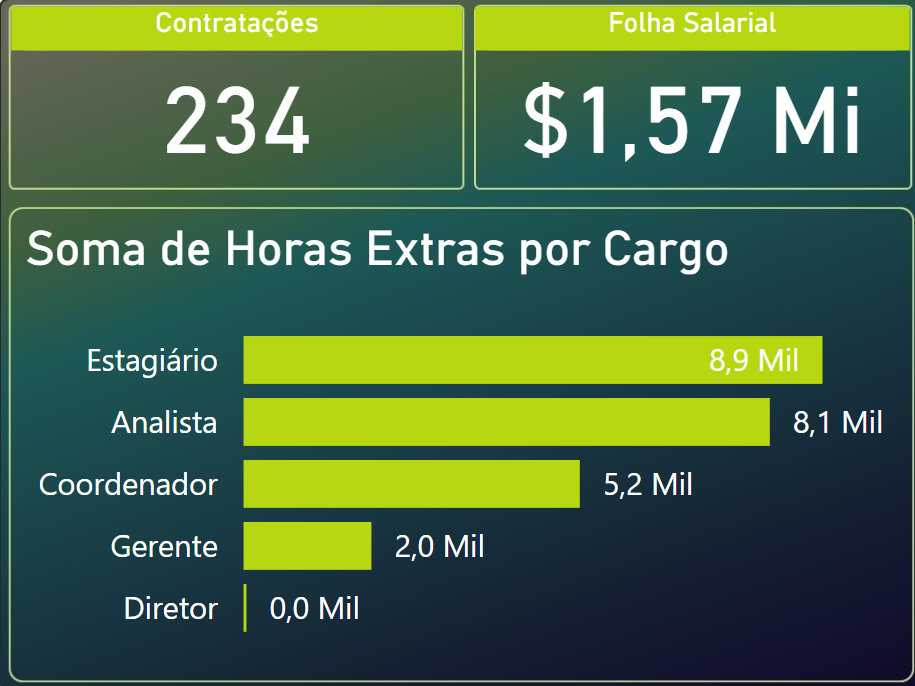

Layout of this report page (visuals, bound fields, positions):
{"tool":"powerbi","page":{"name":"Tooltip RH","canvas":[320,240],"ordinal":1},"visuals":[{"type":"card","title":"Contratações","fields":{"Values":["Base Funcionarios.Contratações"]},"box":[3.8,2.9,157.1,63.8],"z":0},{"type":"card","title":"Folha Salarial","fields":{"Values":["Sum(Base Funcionarios.Salario)"]},"box":[165.4,2.9,151.2,63.8],"z":1000},{"type":"barChart","fields":{"Y":["Sum(Base Funcionarios.Horas Extras)"],"Category":["Base Funcionarios.Cargo"]},"box":[3.8,77.1,312.9,157.9],"z":2000}]}

Visuals, with their boxes in screenshot pixels (x1, y1, x2, y2), scaled from the page's 320x240 canvas onto the 915x686 screenshot:
"Contratações" card: select_region(11, 8, 460, 191)
"Folha Salarial" card: select_region(473, 8, 905, 191)
barChart - Sum(Base Funcionarios.Horas Extras) x Base Funcionarios.Cargo: select_region(11, 220, 906, 672)
